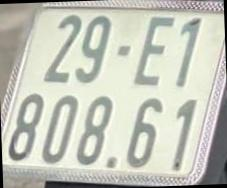-: (116, 46, 134, 57)
.: (106, 155, 119, 169)
0: (43, 93, 78, 163)
1: (172, 98, 199, 170), (178, 17, 202, 88)
2: (41, 15, 79, 81)
6: (125, 97, 165, 169)
8: (8, 91, 44, 162), (78, 96, 111, 164)
9: (77, 15, 112, 85)
E: (134, 16, 175, 88)
